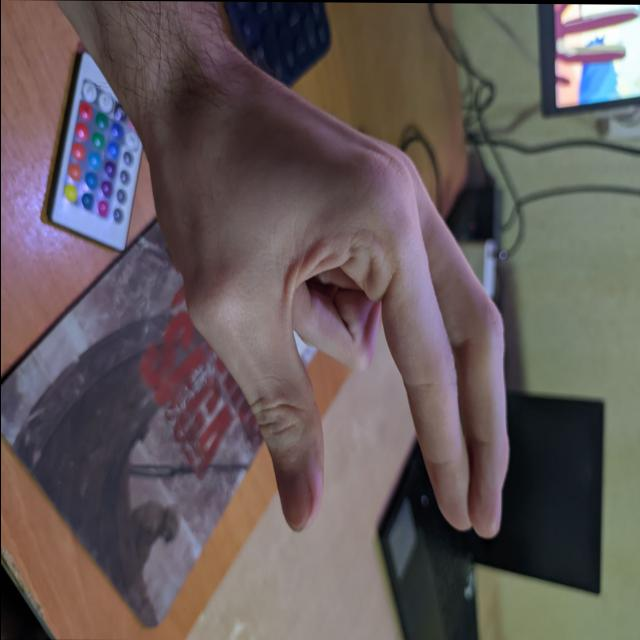ia: (145, 76, 535, 562)
